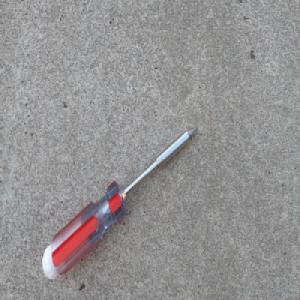Screwdriver: (41, 124, 198, 280)
